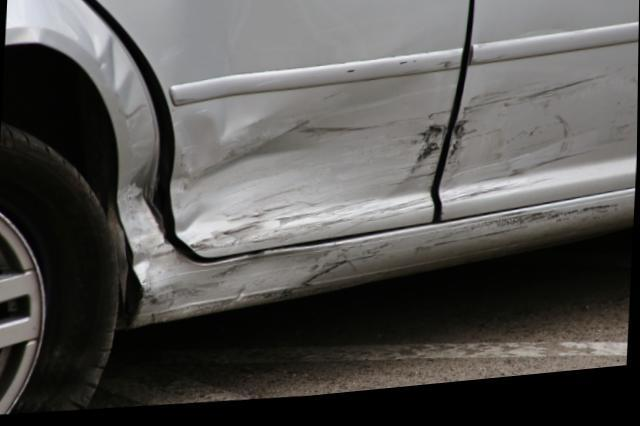dent: (7, 0, 173, 287), (174, 87, 440, 250), (176, 0, 289, 79)
dislocated part: (73, 0, 215, 273)
scratch: (134, 217, 621, 327), (438, 78, 638, 217), (353, 134, 450, 234)
